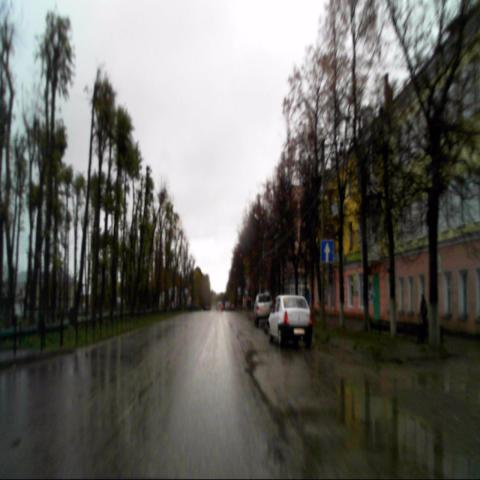5_5: (320, 239, 334, 264)
